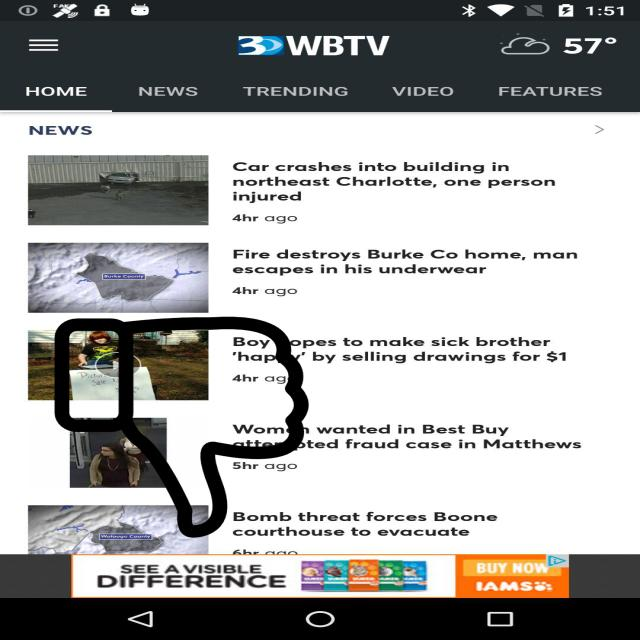obstruction: (51, 316, 312, 538)
